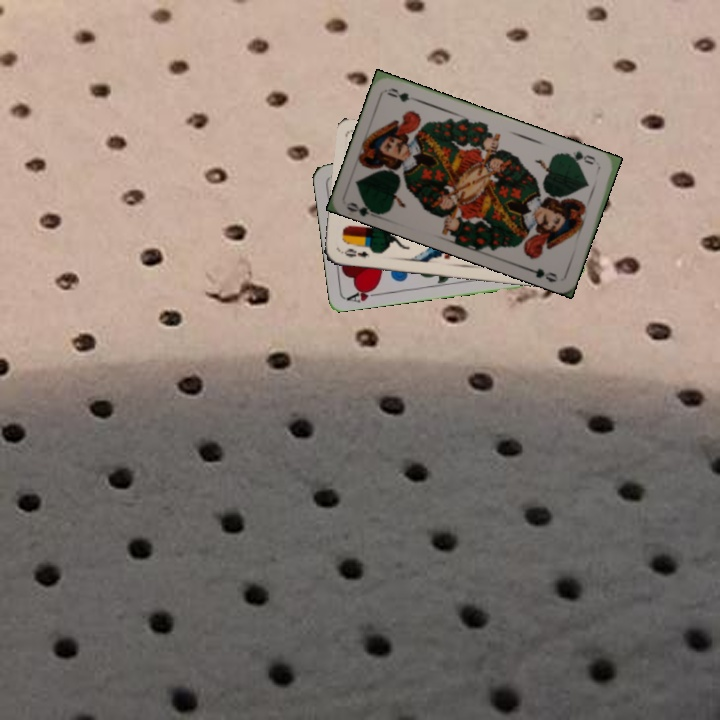EO: (337, 244, 378, 260)
GO: (343, 197, 384, 218), (563, 147, 599, 168)
HA: (343, 283, 384, 305)
